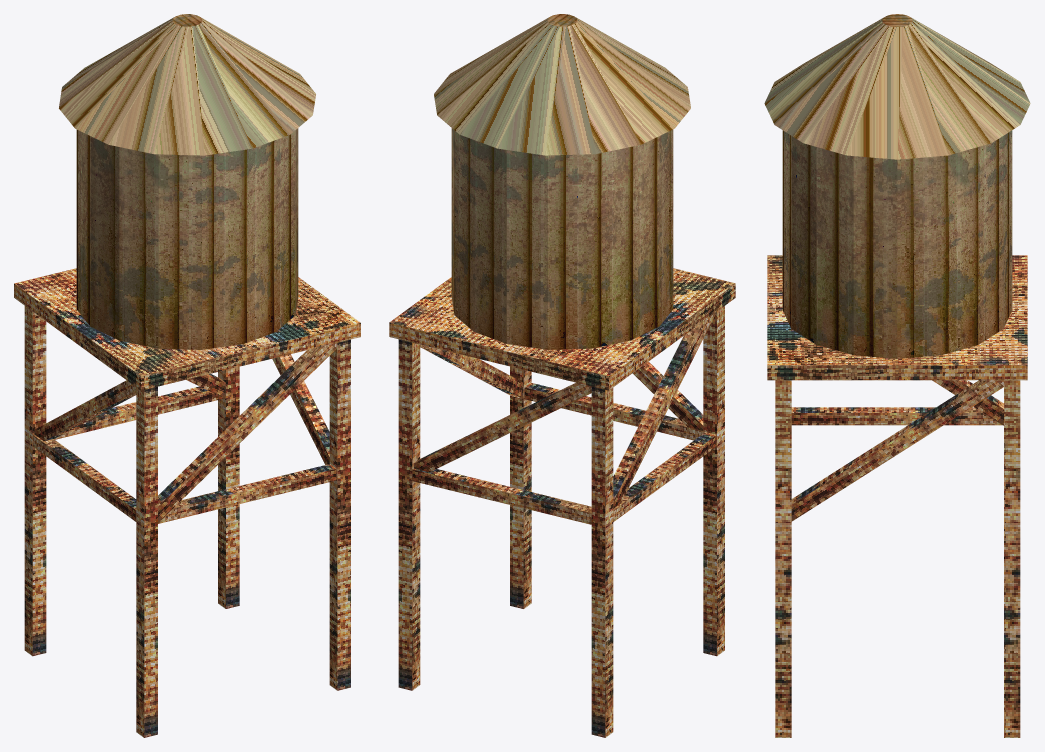
The model's file is watertower.glb.
The picture shows the model from 3 angles, left to right: view 1: azimuth 30°, elevation 25°; view 2: azimuth 150°, elevation 25°; view 3: azimuth 270°, elevation 25°; orthographic projection. The views are drawn at different scales.
Parts seen in each view (by area): view 1: Cylinder, Object.001, Cube, Cube.006, Cube.003; view 2: Cylinder, Object.001, Cube, Cube.006, Cube.003; view 3: Cylinder, Object.001, Cube, Cube.006, Cube.003.
Part boxes in pixels (bbox=[...]): Cylinder: bbox=[59, 14, 315, 349]; Object.001: bbox=[24, 306, 350, 737]; Cube: bbox=[14, 268, 360, 390]; Cube.006: bbox=[34, 343, 336, 522]; Cube.003: bbox=[33, 386, 336, 523]; Cylinder: bbox=[434, 14, 690, 349]; Object.001: bbox=[398, 306, 724, 737]; Cube: bbox=[389, 268, 735, 390]; Cube.006: bbox=[413, 313, 714, 508]; Cube.003: bbox=[412, 382, 716, 524]; Cylinder: bbox=[764, 14, 1030, 358]; Object.001: bbox=[775, 380, 1020, 737]; Cube: bbox=[767, 255, 1027, 380]; Cube.006: bbox=[791, 380, 1003, 521]; Cube.003: bbox=[791, 407, 1002, 425].
Bounding box in the file's own units: 6.56 × 18.08 × 6.56.
2 materials, 2 textured.
